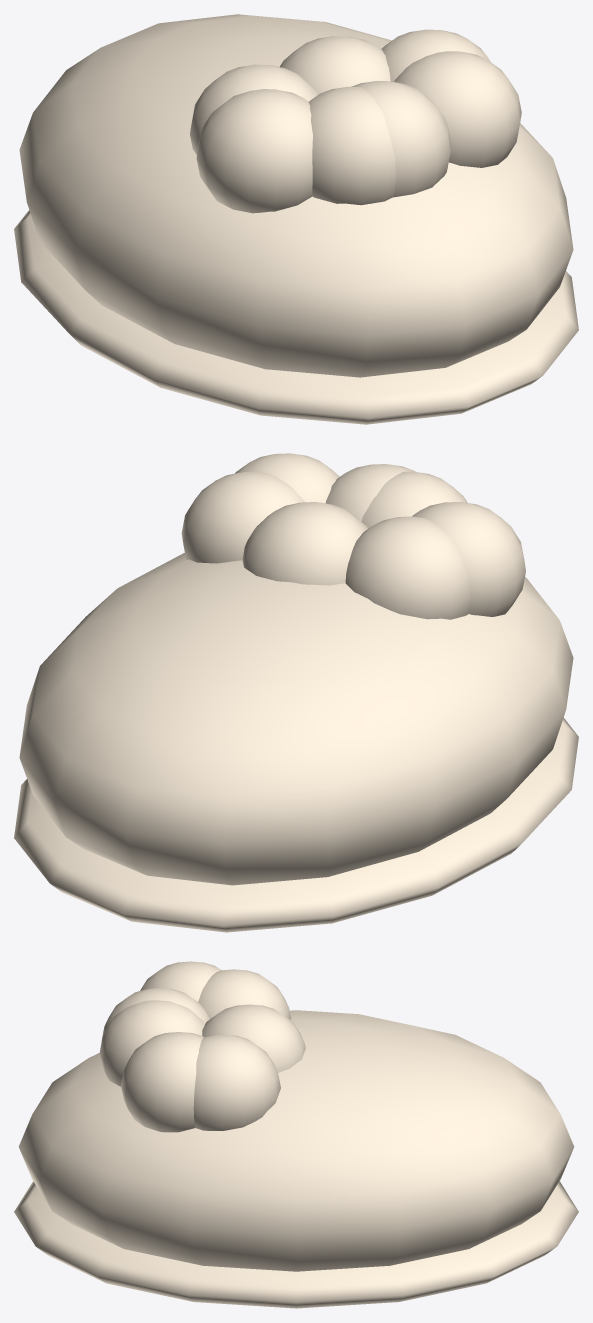
File: slippers_cloud.glb
3 views of the same model, one above another, from view 1: azimuth 30°, elevation 25°; view 2: azimuth 150°, elevation 25°; view 3: azimuth 270°, elevation 25° (orthographic). The views are drawn at different scales.
Parts seen in each view (by area): view 1: Pantuflas nube; view 2: Pantuflas nube; view 3: Pantuflas nube.
Boxes of the visible parts, x1=… form: Pantuflas nube: x1=14, y1=14, x2=578, y2=424; Pantuflas nube: x1=14, y1=453, x2=578, y2=932; Pantuflas nube: x1=14, y1=961, x2=578, y2=1308.
Size of the model in its own units: 0.184 by 0.118 by 0.244.
